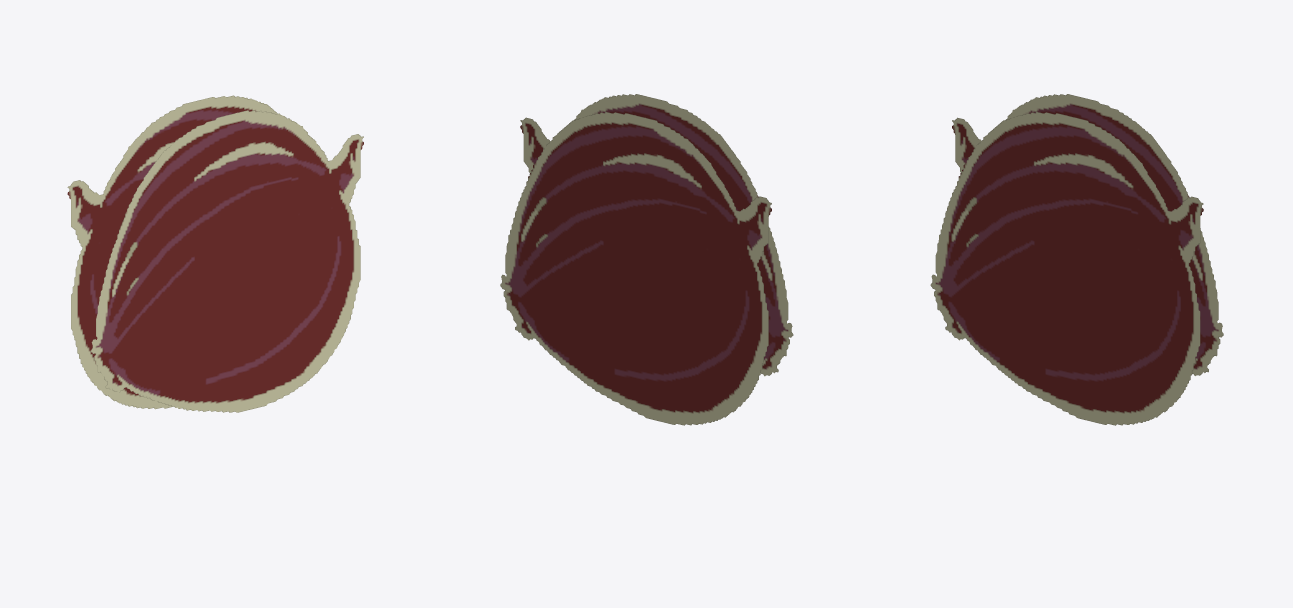
Rendered from icon_product.fbx.
3 views of the same model, side by side, from view 1: azimuth 30°, elevation 25°; view 2: azimuth 150°, elevation 25°; view 3: azimuth 330°, elevation 25° (orthographic).
Visible parts, largest first — view 1: icon; view 2: icon; view 3: icon.
Part boxes in pixels (box(x1,y1,x2,y2)): icon: box(67, 95, 363, 412); icon: box(500, 94, 793, 425); icon: box(930, 94, 1223, 425).
Size of the model in its own units: 200 by 268 by 20.35.
Materials: 1 (1 with a texture image).
